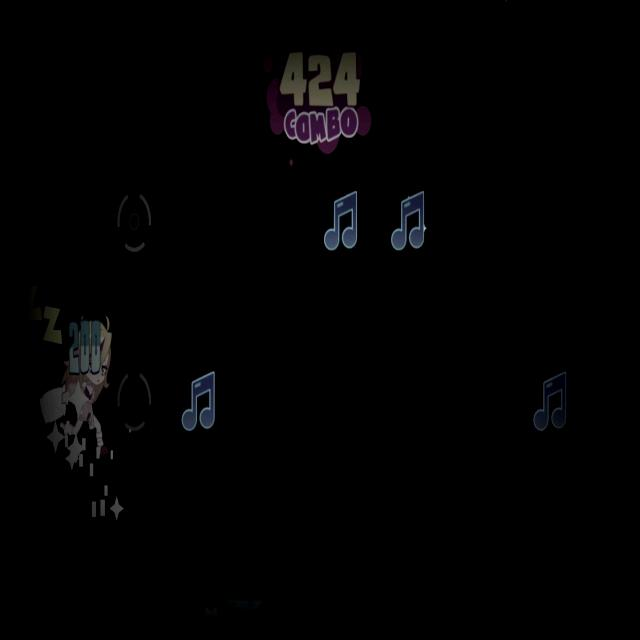Music note: (387, 183, 434, 258), (530, 366, 574, 438), (177, 367, 216, 436), (322, 196, 360, 262)
